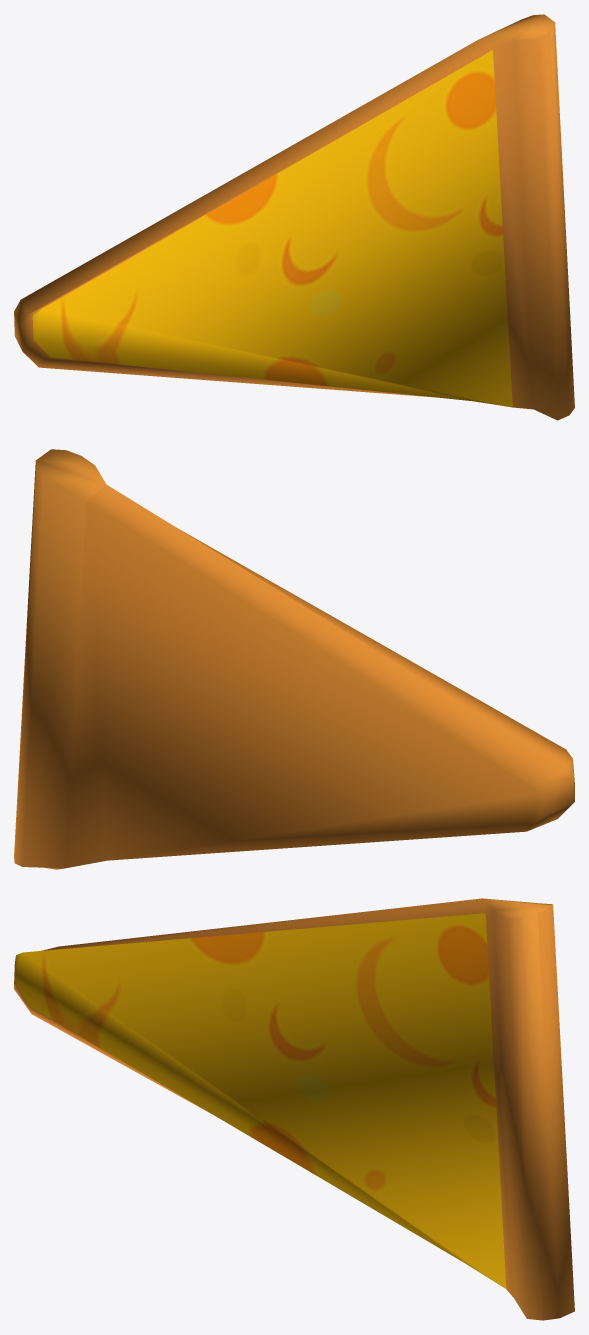
Rendered from yellow_pizza.glb.
The picture shows the model from 3 angles, top to bottom: view 1: azimuth 30°, elevation 25°; view 2: azimuth 150°, elevation 25°; view 3: azimuth 330°, elevation 25°; orthographic projection. The views are drawn at different scales.
Parts seen in each view (by area): view 1: Yellow_Pizza; view 2: Yellow_Pizza; view 3: Yellow_Pizza.
Boxes of the visible parts, x1,y1,x2,y2 form: Yellow_Pizza: [14, 14, 574, 420]; Yellow_Pizza: [14, 449, 574, 869]; Yellow_Pizza: [14, 898, 574, 1320].
Bounding box in the file's own units: 0.7329 × 0.5072 × 0.0928.
Materials: 1 (1 with a texture image).
